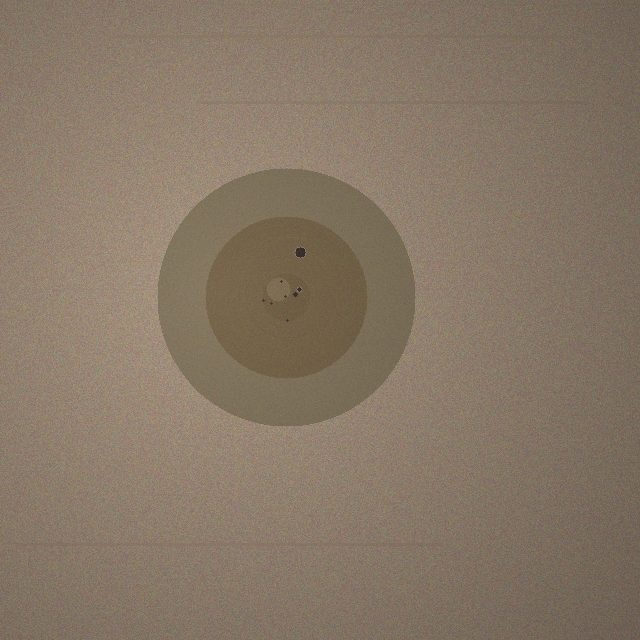shrinkage: (157, 168, 415, 426)
